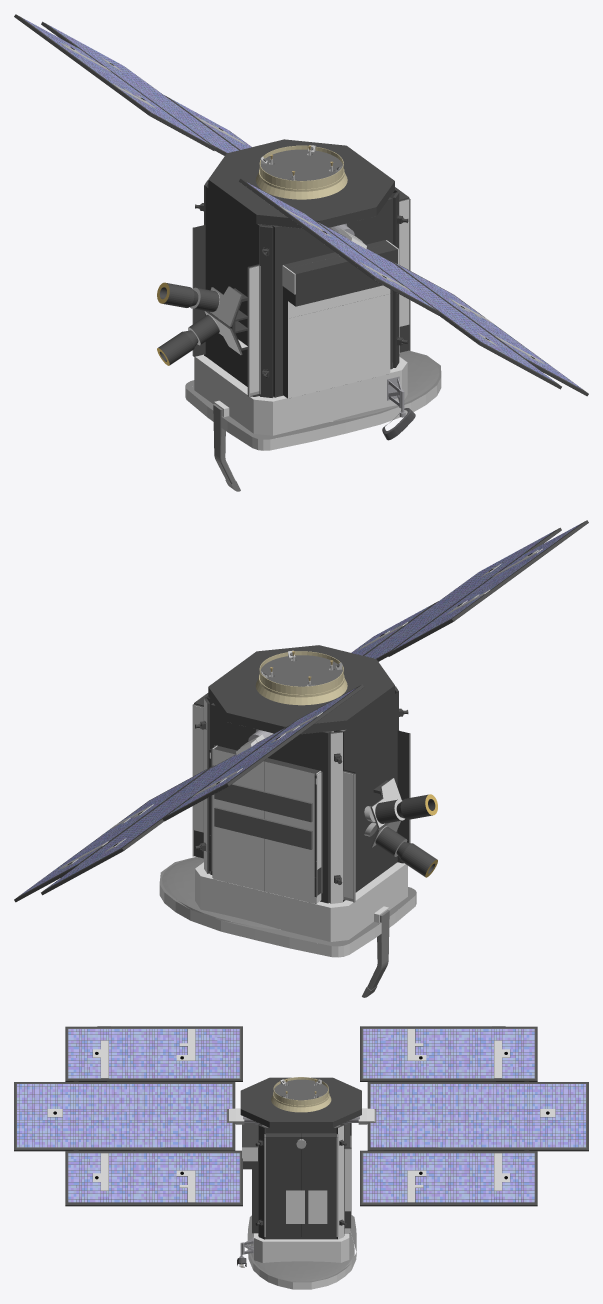
Rendered from CloudSat (B).glb.
3 renders of one model, top to bottom at view 1: azimuth 30°, elevation 25°; view 2: azimuth 150°, elevation 25°; view 3: azimuth 270°, elevation 25°, orthographic. The views are drawn at different scales.
Visible parts, largest first — view 1: Layer_0; view 2: Layer_0; view 3: Layer_0.
Part boxes in pixels (x1,y1,x2,y2): Layer_0: [14, 14, 588, 491]; Layer_0: [14, 520, 588, 997]; Layer_0: [14, 1026, 588, 1289].
Bounding box in the file's own units: 11.5 × 14.35 × 32.24.
